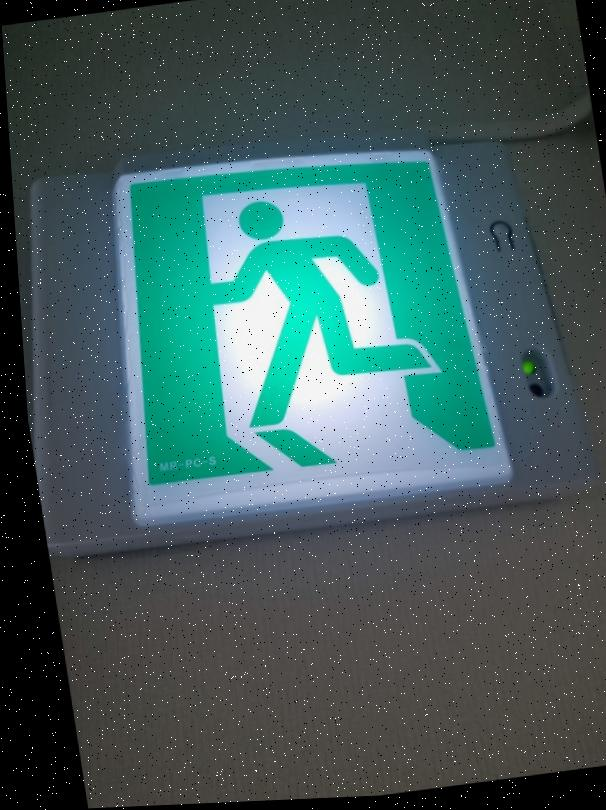emergency_exit: (113, 147, 514, 527)
